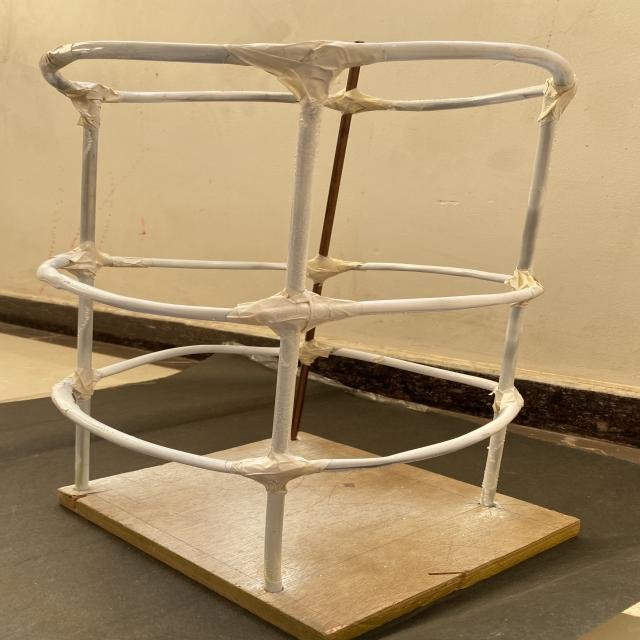silo: (48, 36, 567, 624)
